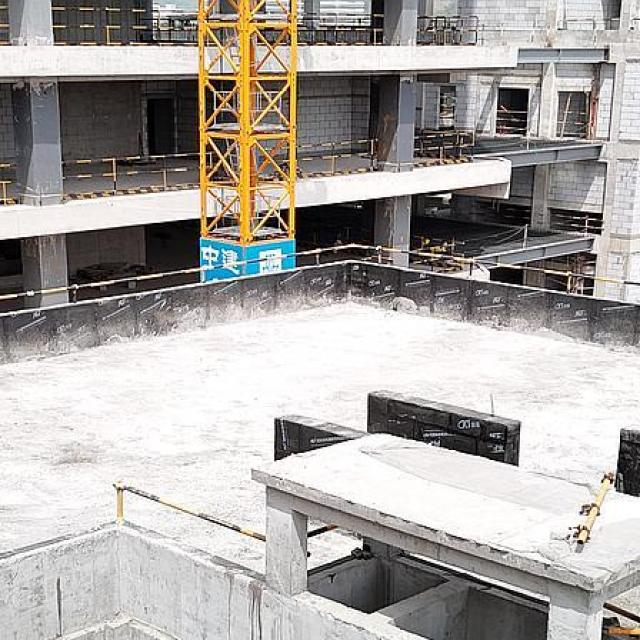edge_guardrail: (0, 241, 640, 306), (61, 138, 382, 196), (50, 5, 386, 48), (112, 478, 267, 552), (416, 14, 481, 46), (560, 0, 620, 30), (412, 132, 477, 159), (478, 204, 531, 229), (549, 212, 604, 235), (556, 109, 594, 138), (414, 234, 465, 253), (0, 158, 20, 206), (495, 108, 528, 133), (0, 4, 11, 45)
